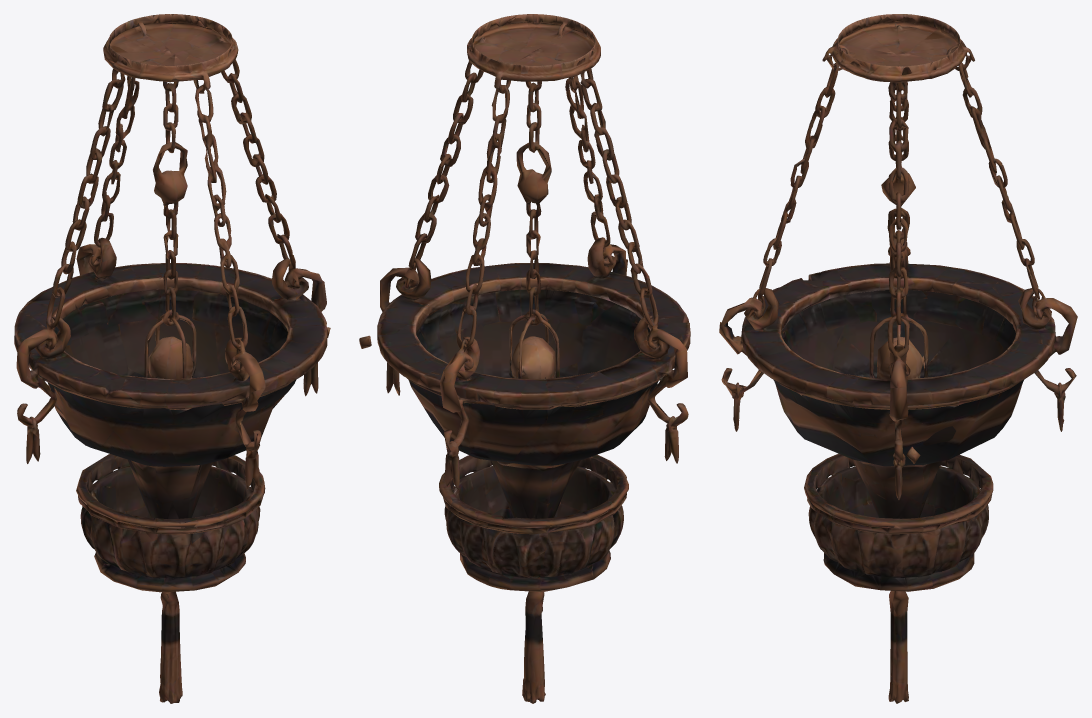
The model's file is rusted_censer.glb.
3 renders of one model, left to right at view 1: azimuth 30°, elevation 25°; view 2: azimuth 150°, elevation 25°; view 3: azimuth 270°, elevation 25°, orthographic.
Bounding box in the file's own units: 0.9654 × 1.9 × 0.9341.
1 material, 1 textured.
